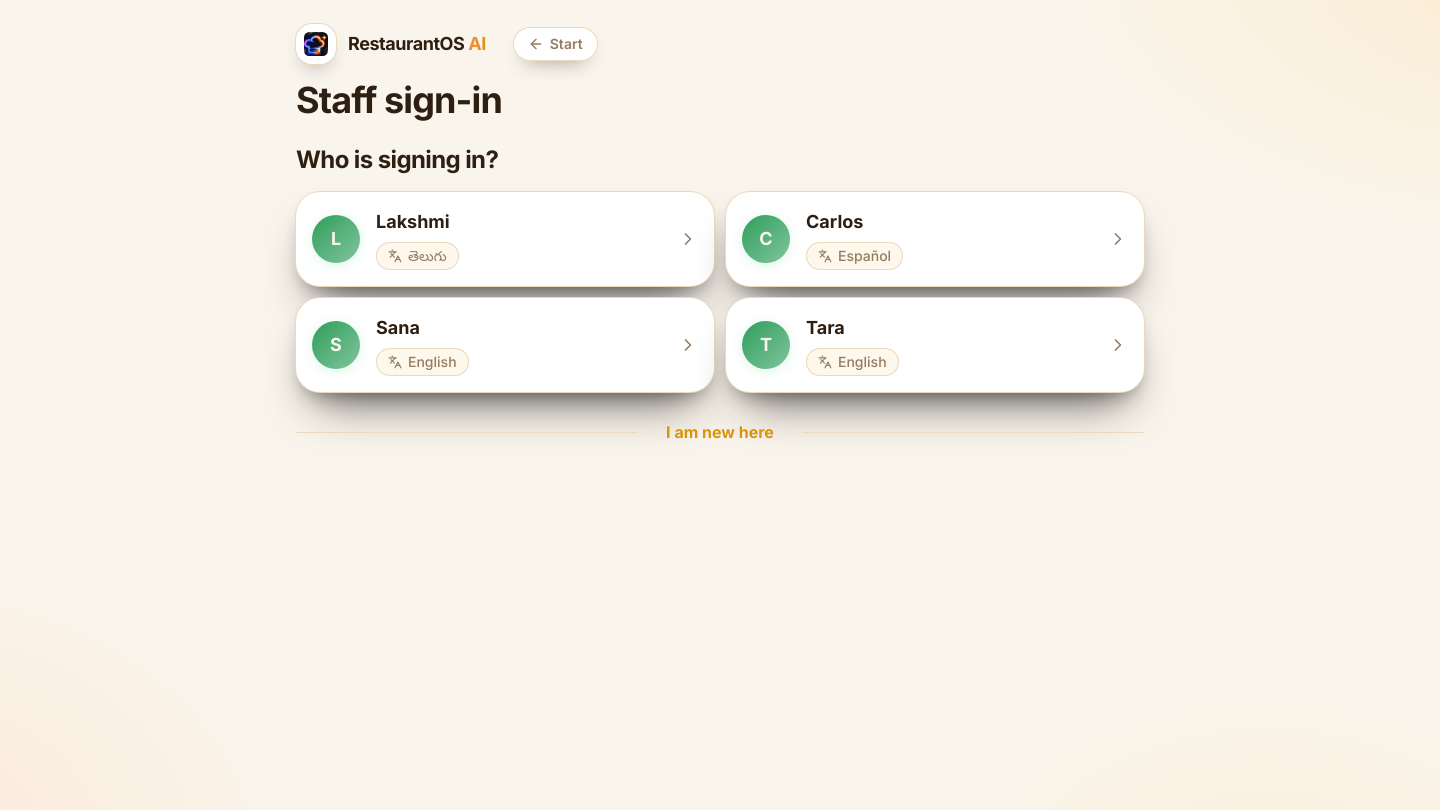
a_wrong_pin_is_refused_and_the_pad_clears
The image size is (1440, 810).
What coordinates should you click on to do the following:
click the button "C Carlos Español"
I would click on:
 (766, 239)
Its box is x1=726 y1=192 x2=1144 y2=286.
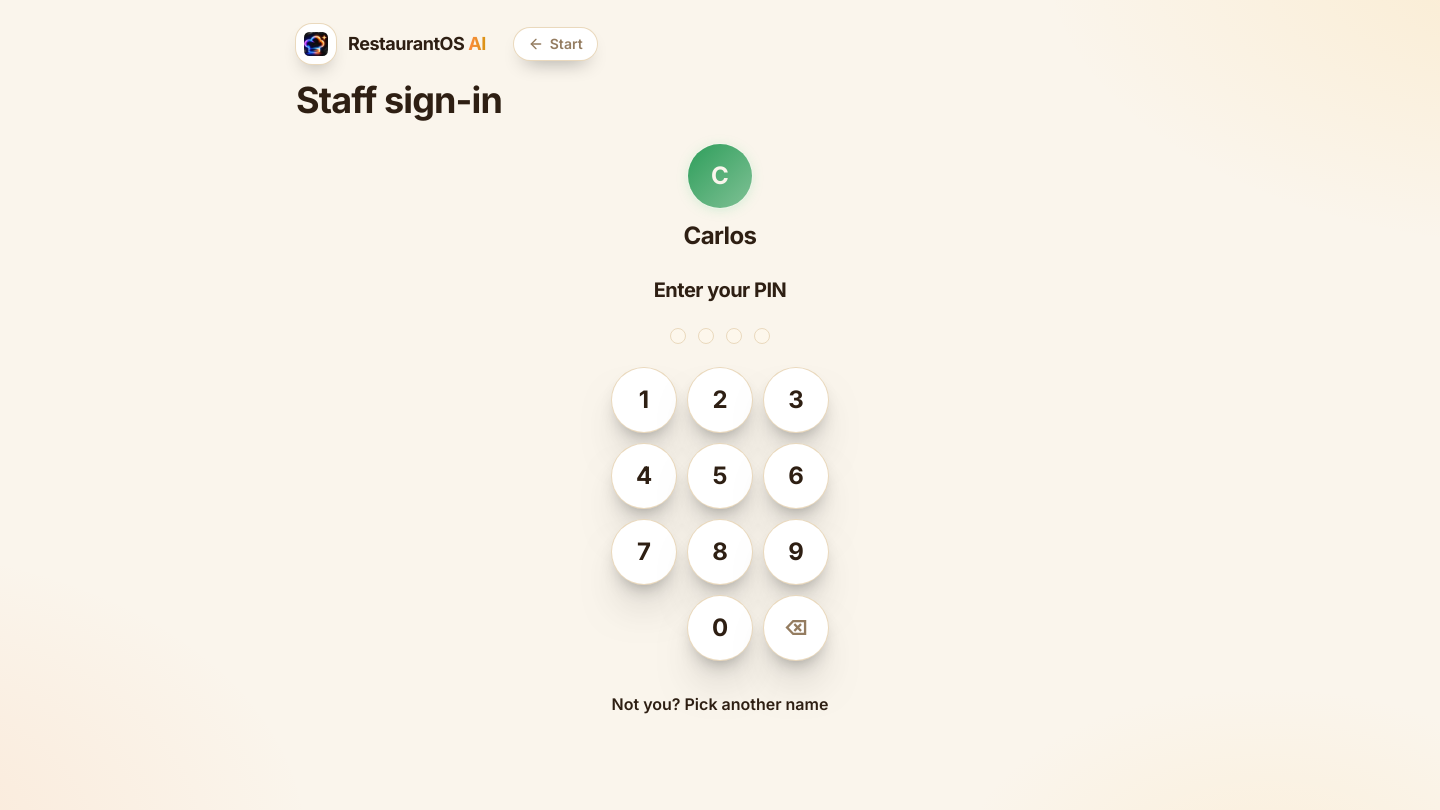
What coordinates should you click on to do the following:
click the button "9"
I would click on:
 (796, 552)
Its box is x1=764 y1=520 x2=828 y2=584.
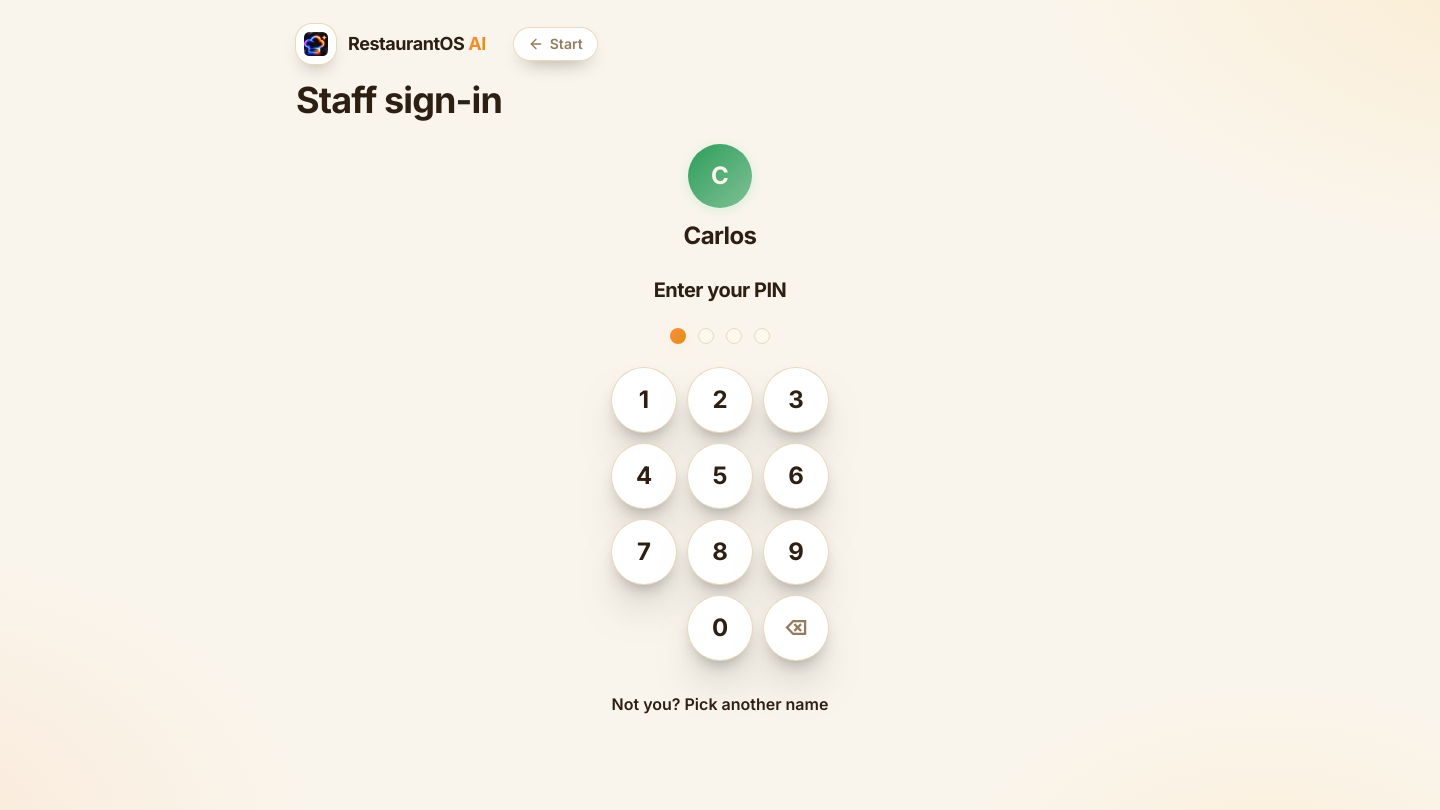
What coordinates should you click on to do the following:
click the button "9"
I would click on:
 (796, 552)
Its box is x1=764 y1=520 x2=828 y2=584.
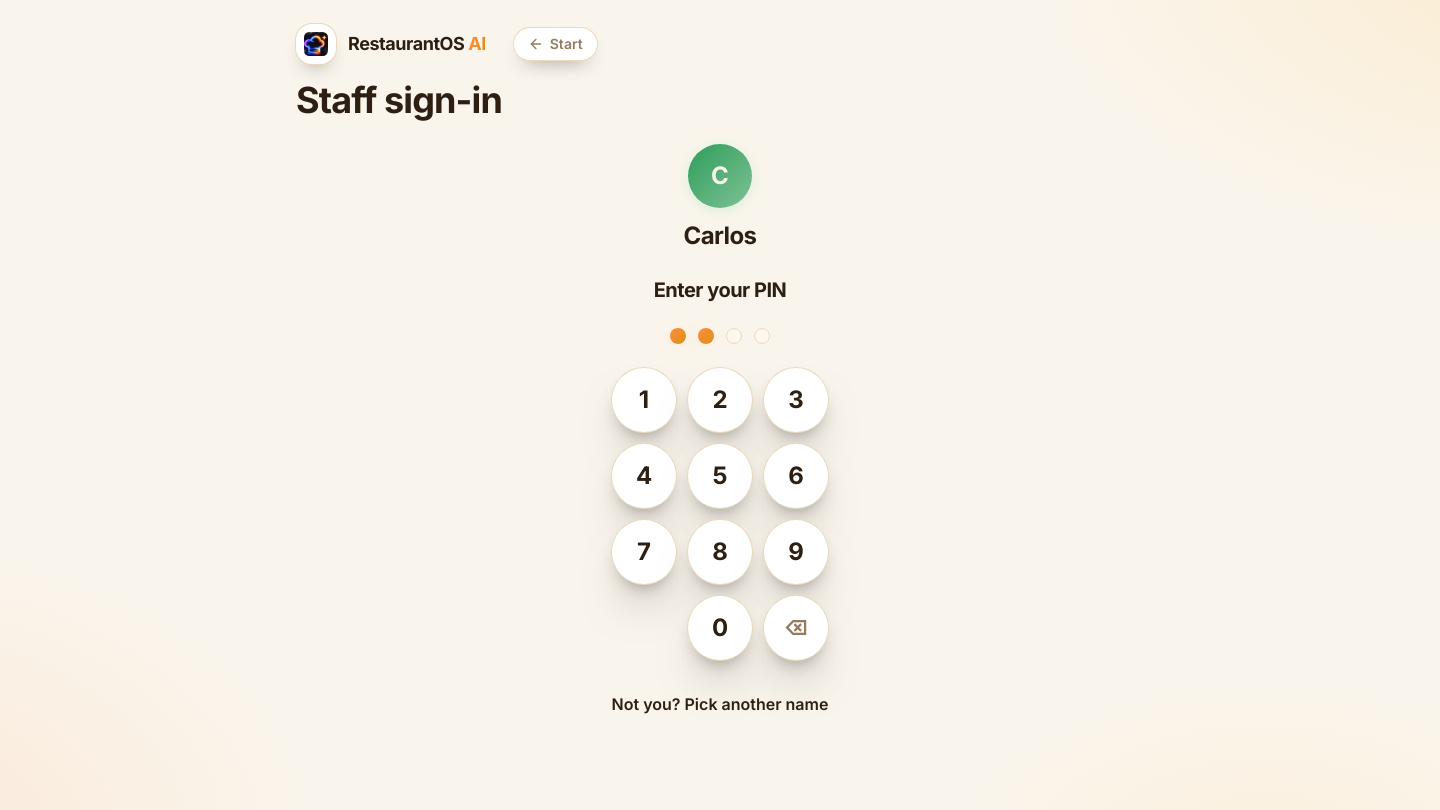
What coordinates should you click on to do the following:
click the button "9"
I would click on:
 (796, 552)
Its box is x1=764 y1=520 x2=828 y2=584.
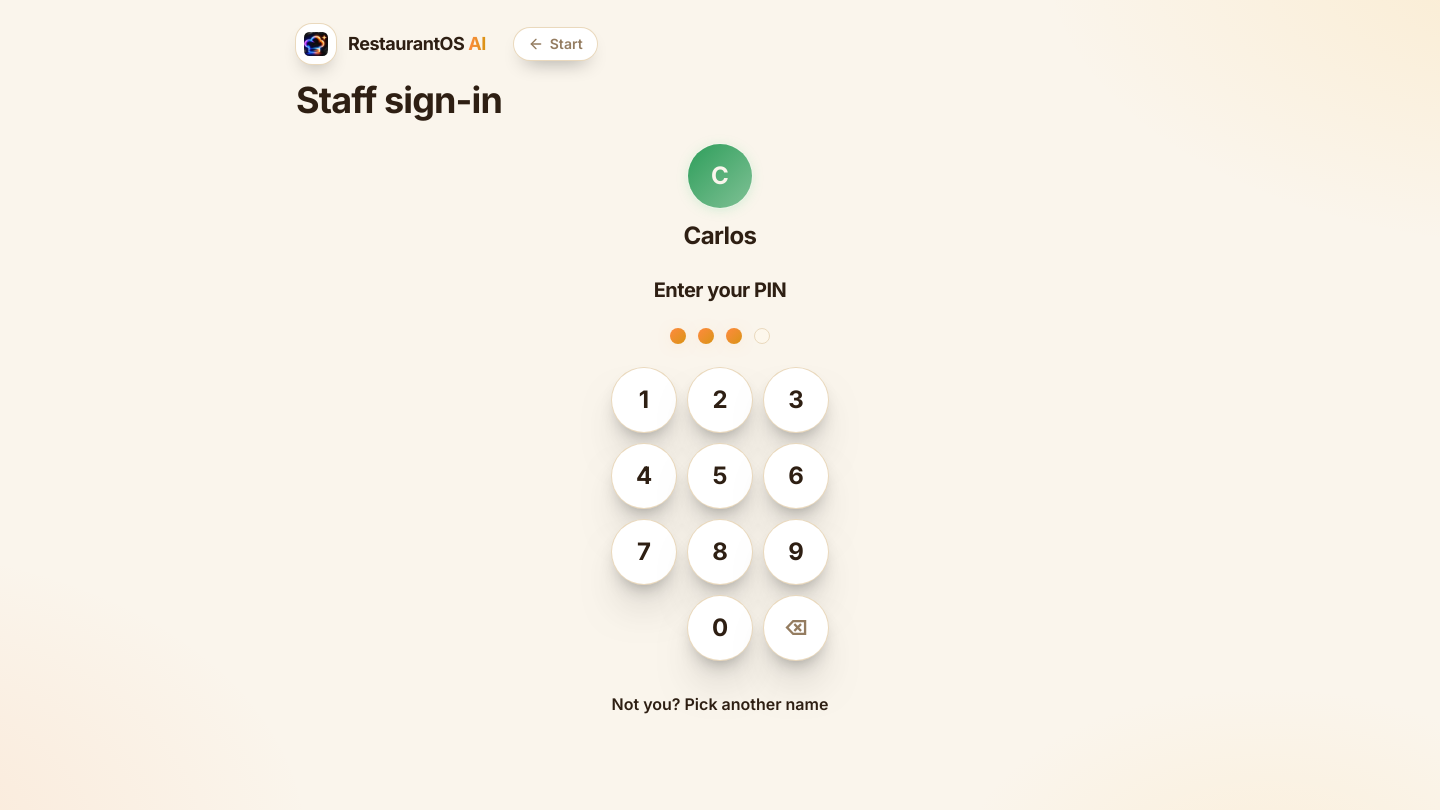
What coordinates should you click on to do the following:
click the button "9"
I would click on:
 (796, 552)
Its box is x1=764 y1=520 x2=828 y2=584.
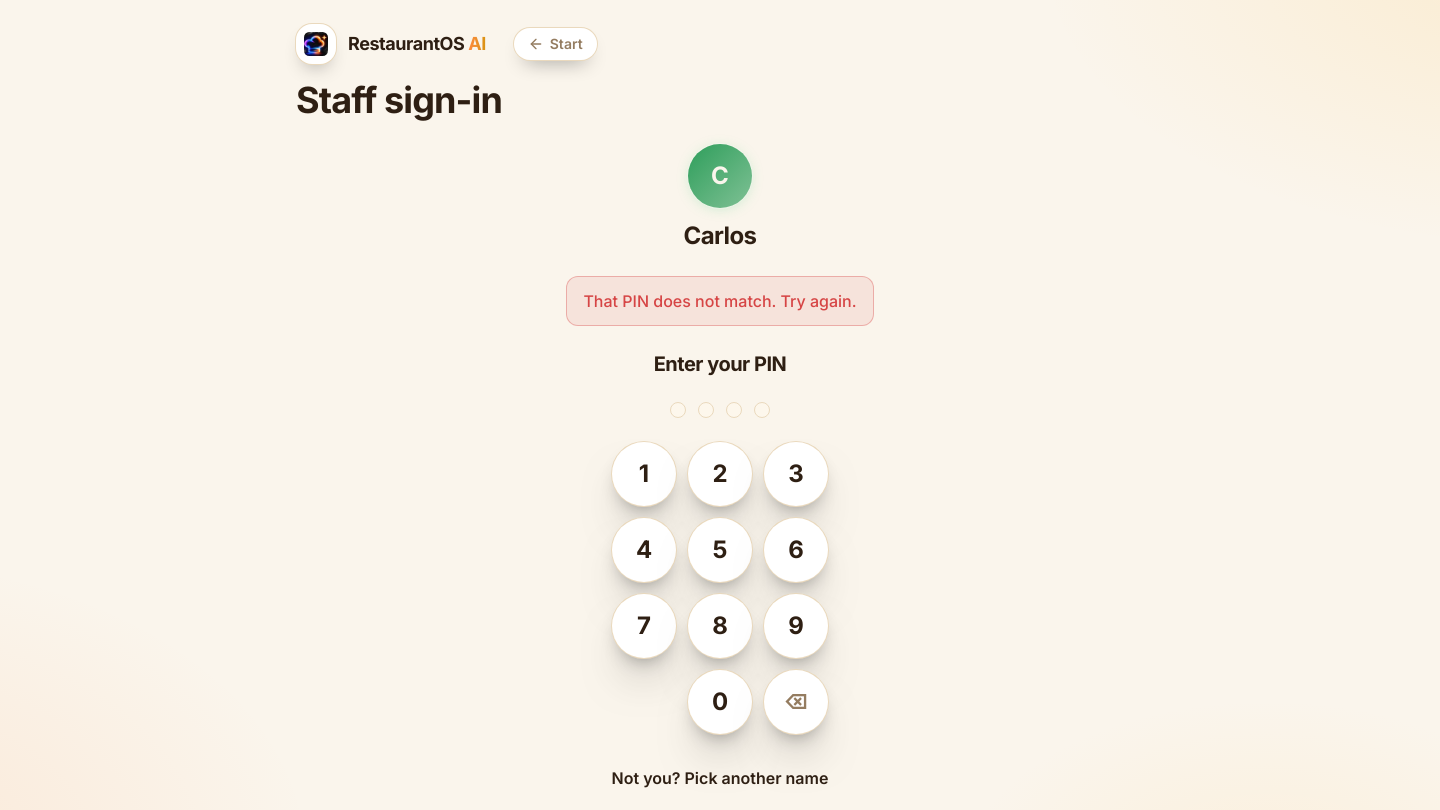
Now the message shows "That PIN does not match", box x1=583 y1=291 x2=856 y2=311
